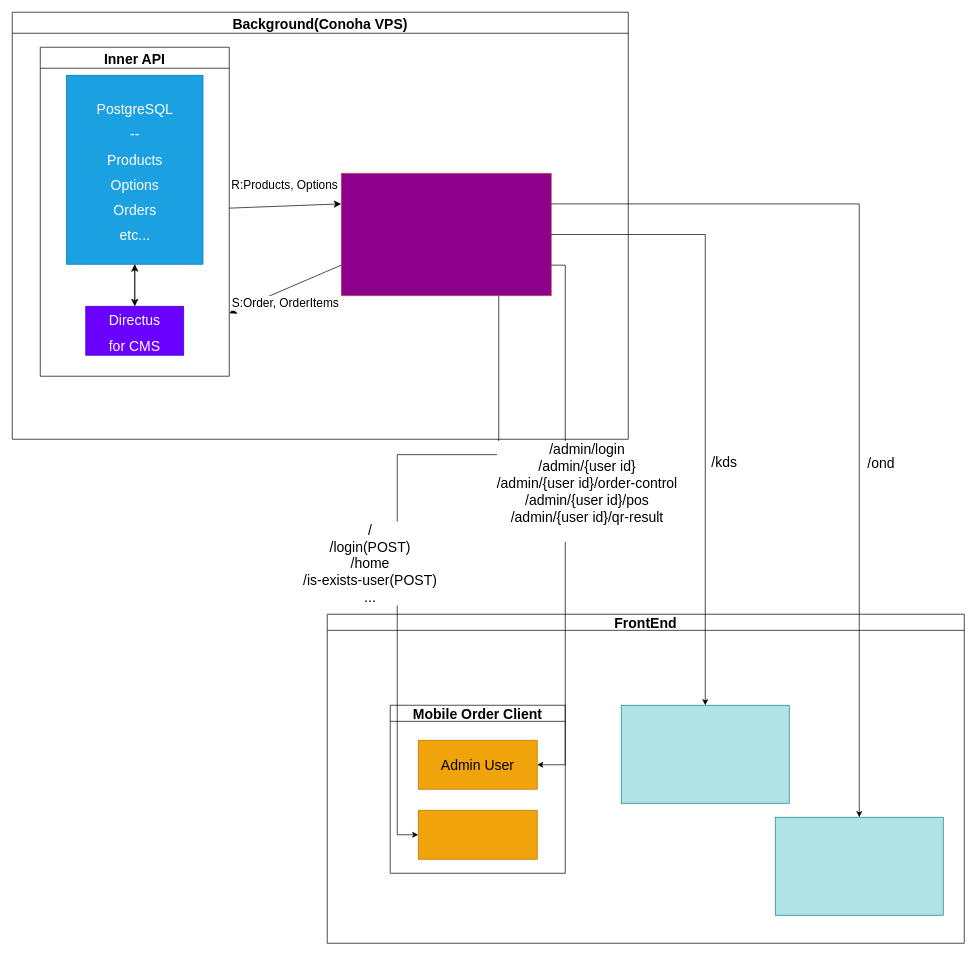
Image size: 977x956. Some labels were removed from this diagram. The shapes that lost their labels are listed below. From the top down, each one's centre as x and y in pixels, then its label:
At (x=446, y=234): "Ktor-Server".
At (x=705, y=754): "KDS (Qt)".
At (x=477, y=834): "Order User".
At (x=859, y=866): "Order Number Display (Qt)".
